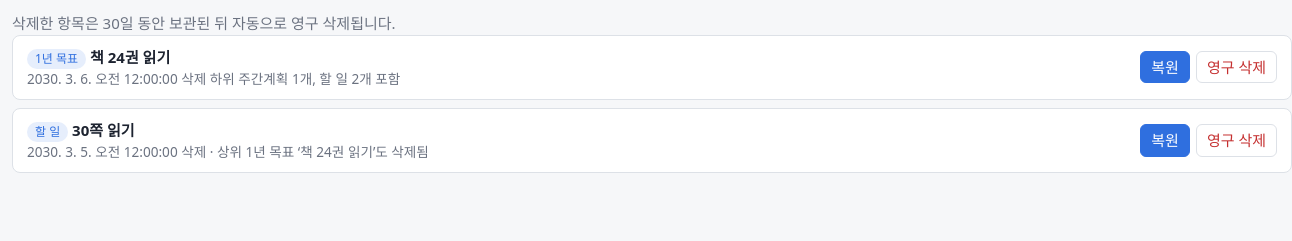
TrashView › shows guidance when restoring an item whose parent is deleted
Click the button "복원" in the row of "30쪽 읽기": {"x": 1165, "y": 141} [1140, 124, 1190, 157]
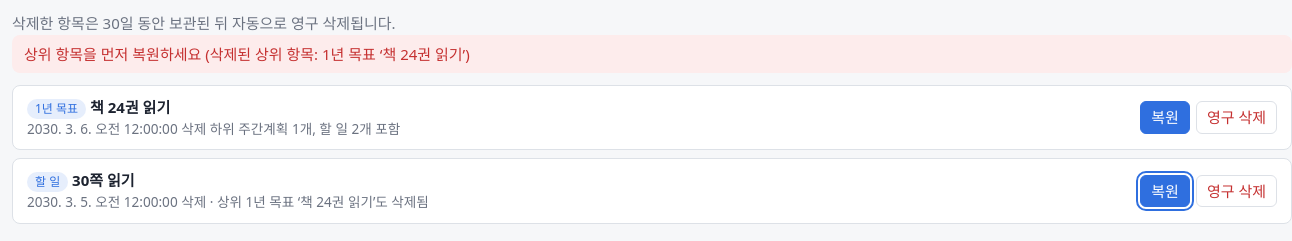
expect the message reads "상위 항목을 먼저 복원하세요 (삭제된 상위 항목: 1년 목표 ‘책 24권 읽기’)": met, box [24, 44, 470, 64]
